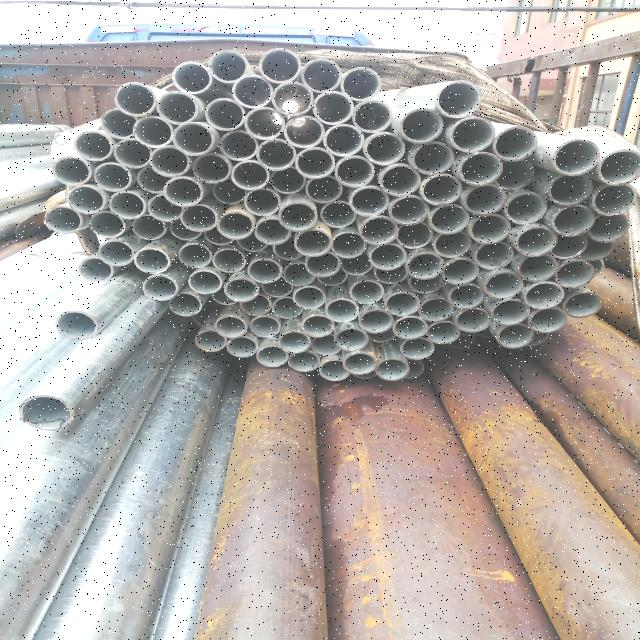pipe: (18, 392, 78, 436), (435, 79, 481, 119), (552, 138, 600, 176), (450, 115, 498, 152), (493, 124, 540, 160), (598, 147, 640, 186), (258, 48, 302, 83), (54, 308, 99, 342), (550, 172, 594, 206), (401, 108, 445, 142), (410, 142, 454, 176), (379, 164, 423, 198), (419, 173, 464, 206), (586, 211, 632, 243), (458, 152, 504, 184), (464, 183, 508, 216), (469, 213, 513, 246), (349, 185, 393, 218), (592, 184, 640, 214), (312, 91, 354, 125), (324, 123, 366, 157), (272, 82, 314, 116), (218, 128, 260, 162), (150, 144, 192, 178), (302, 58, 344, 92), (284, 115, 327, 148), (114, 82, 157, 115), (491, 158, 535, 190), (242, 107, 286, 139), (554, 204, 596, 237), (351, 99, 393, 132), (173, 122, 216, 154), (192, 152, 235, 184), (516, 226, 560, 257), (554, 257, 596, 289), (364, 133, 406, 165), (334, 155, 376, 187), (295, 148, 337, 180), (256, 140, 297, 172), (173, 62, 214, 94), (473, 240, 518, 269), (506, 192, 548, 223), (158, 91, 200, 122), (343, 67, 381, 101), (359, 216, 402, 246), (206, 98, 246, 130), (163, 175, 203, 207), (209, 50, 249, 82), (133, 116, 173, 148), (74, 130, 114, 162), (429, 204, 471, 234), (276, 201, 318, 231), (179, 203, 217, 235), (564, 290, 604, 320), (388, 196, 428, 226), (368, 242, 408, 272), (232, 160, 272, 190), (67, 184, 107, 214), (108, 188, 148, 218), (495, 323, 539, 349), (294, 229, 332, 259), (253, 216, 291, 246), (44, 206, 82, 236), (524, 282, 564, 310), (548, 232, 588, 260), (518, 256, 558, 284), (434, 230, 474, 258), (395, 222, 435, 250), (406, 252, 446, 280), (304, 176, 344, 204), (132, 246, 172, 274), (101, 107, 136, 139), (51, 156, 91, 184), (114, 138, 150, 168), (90, 210, 126, 240), (492, 298, 530, 326), (384, 290, 422, 318), (242, 188, 280, 216), (93, 164, 131, 192), (418, 297, 456, 324), (146, 193, 184, 220), (454, 308, 493, 334), (322, 200, 358, 228), (98, 239, 134, 267), (76, 256, 112, 284), (530, 308, 568, 334), (486, 272, 524, 298), (442, 258, 480, 284), (392, 315, 430, 341), (398, 335, 436, 361), (358, 308, 396, 334), (178, 241, 213, 269), (132, 212, 167, 240), (449, 283, 487, 308), (350, 280, 386, 306), (272, 168, 308, 194), (284, 262, 320, 288), (188, 270, 224, 296), (426, 319, 460, 346), (410, 271, 448, 295), (332, 232, 367, 258), (344, 350, 379, 376), (142, 274, 177, 300), (374, 359, 409, 384), (374, 260, 410, 284), (340, 253, 376, 277), (306, 252, 342, 276), (332, 328, 368, 352), (288, 348, 324, 372), (249, 257, 281, 284), (215, 314, 248, 340), (327, 298, 362, 322), (318, 358, 353, 382), (213, 179, 248, 203), (294, 284, 326, 310), (170, 216, 202, 242), (136, 166, 168, 192), (213, 248, 246, 273), (278, 330, 312, 354), (168, 292, 202, 316), (579, 237, 613, 260), (249, 316, 283, 339), (272, 296, 304, 320), (272, 238, 306, 260), (301, 316, 335, 338), (255, 344, 289, 366), (400, 354, 426, 382), (225, 336, 258, 358), (196, 329, 226, 353), (310, 334, 342, 356), (202, 226, 235, 246), (261, 277, 292, 298), (520, 328, 554, 347), (317, 268, 348, 288), (366, 328, 398, 346), (238, 235, 267, 253), (211, 287, 236, 307), (584, 256, 606, 276)
